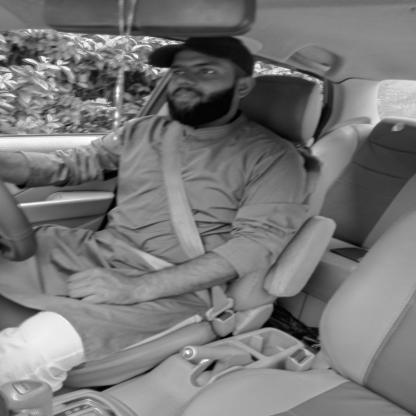seatbelt: (126, 32, 264, 250)
